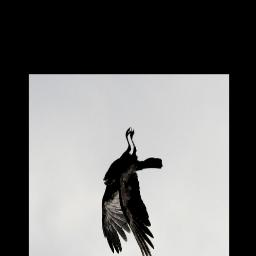Crow: (100, 124, 163, 256)
